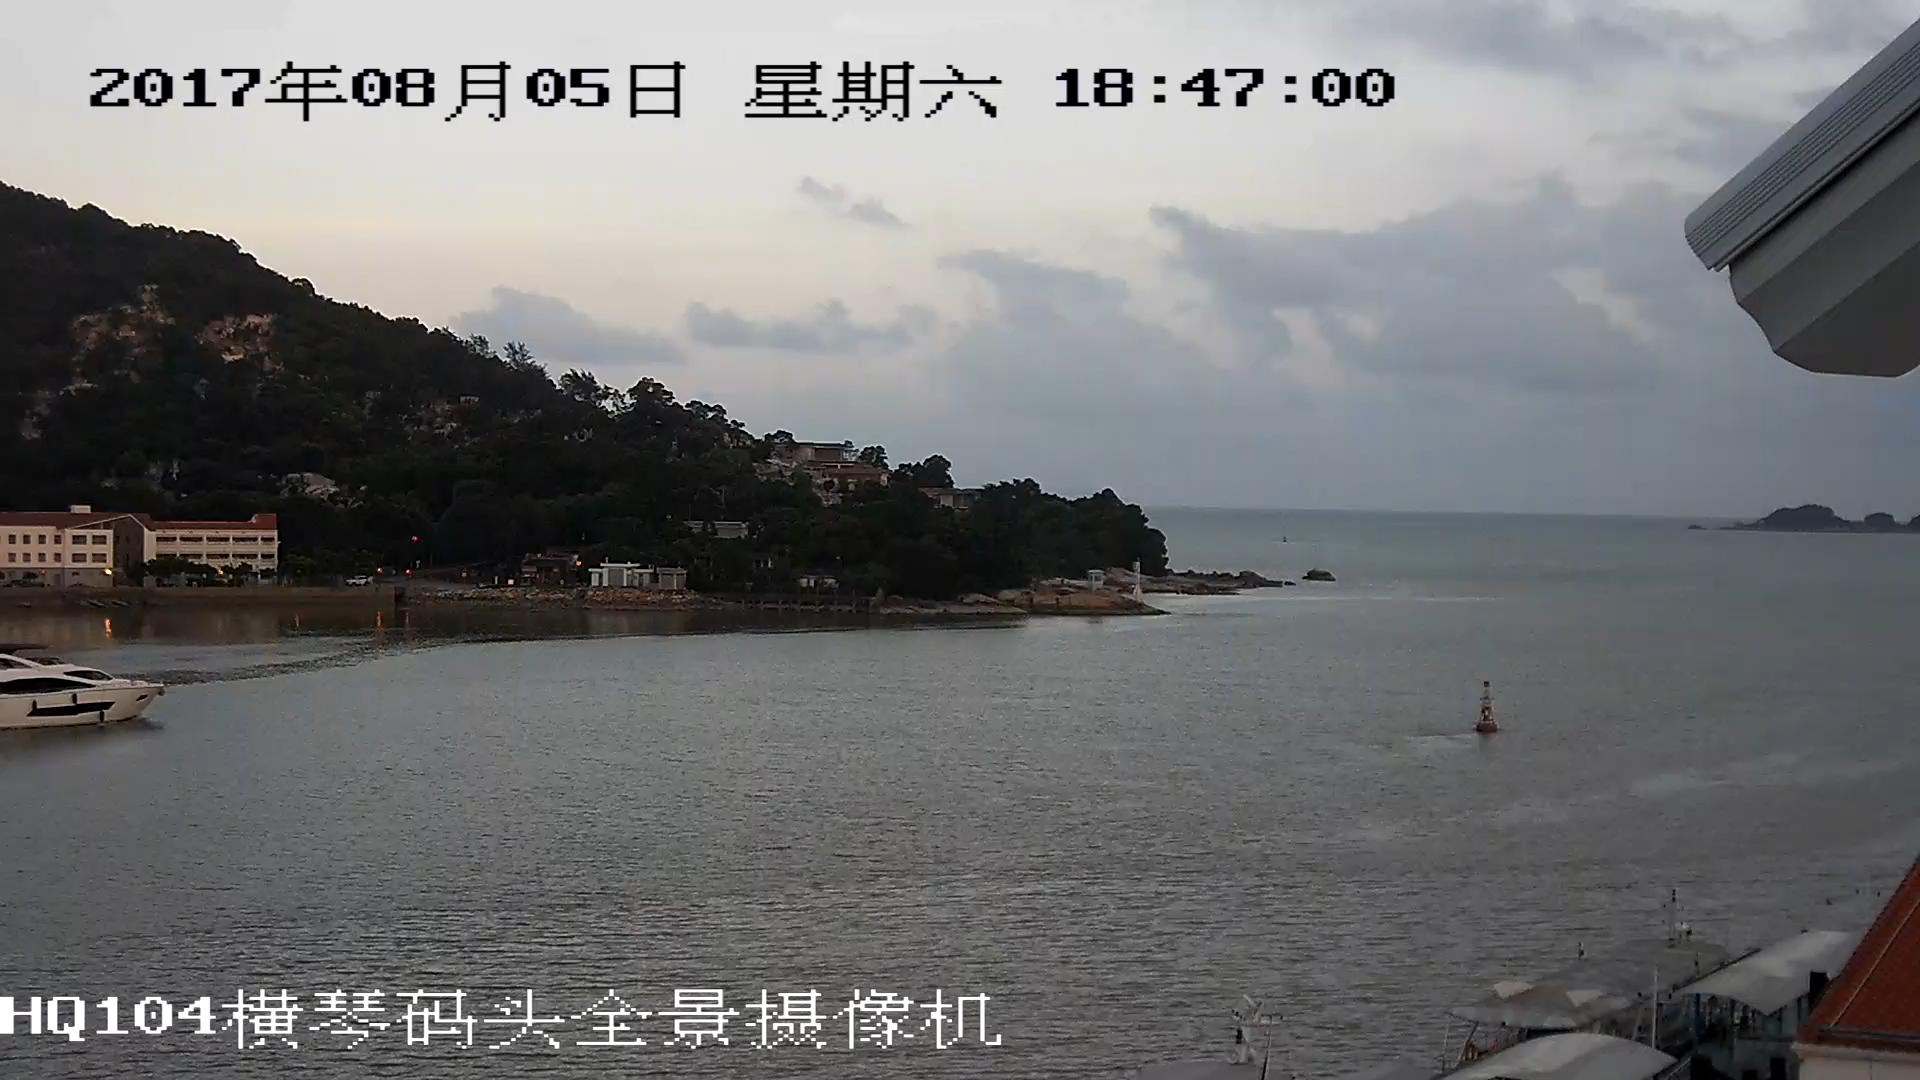passenger ship: (1, 645, 172, 727)
